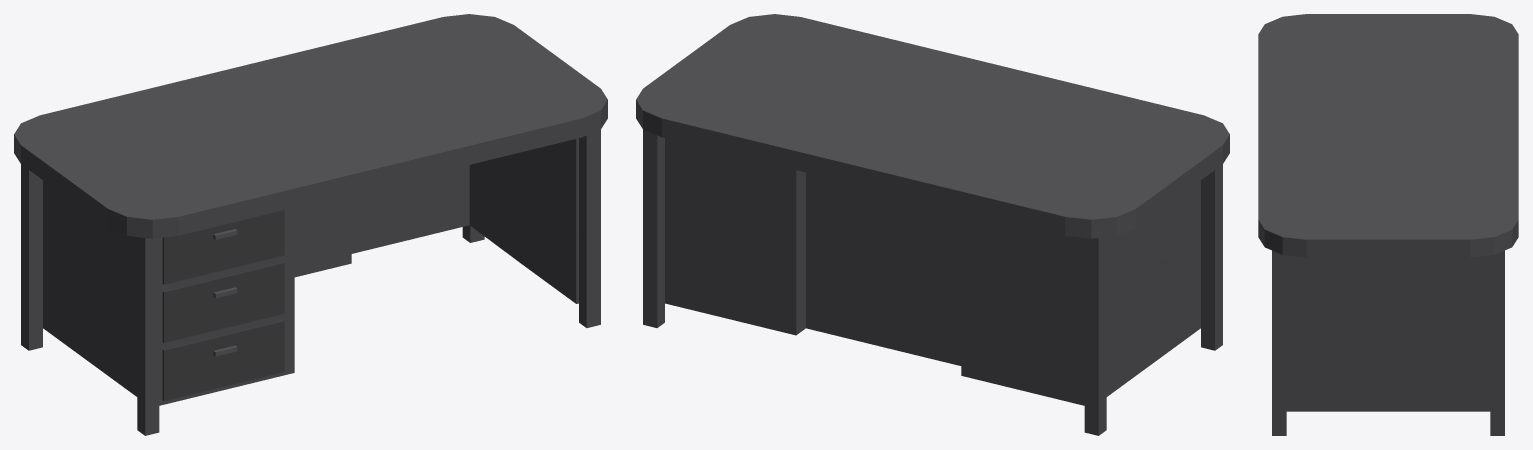
File: Desk2.fbx
3 views of the same model, side by side, from view 1: azimuth 30°, elevation 25°; view 2: azimuth 150°, elevation 25°; view 3: azimuth 270°, elevation 25° (orthographic). The views are drawn at different scales.
Parts seen in each view (by area): view 1: Desk2; view 2: Desk2; view 3: Desk2.
Part boxes in pixels (x1,y1,x2,y2): Desk2: (14, 14, 607, 435); Desk2: (636, 14, 1229, 435); Desk2: (1258, 14, 1518, 435).
Bounding box in the file's own units: 200 × 84.54 × 97.48.
1 material, 1 textured.
